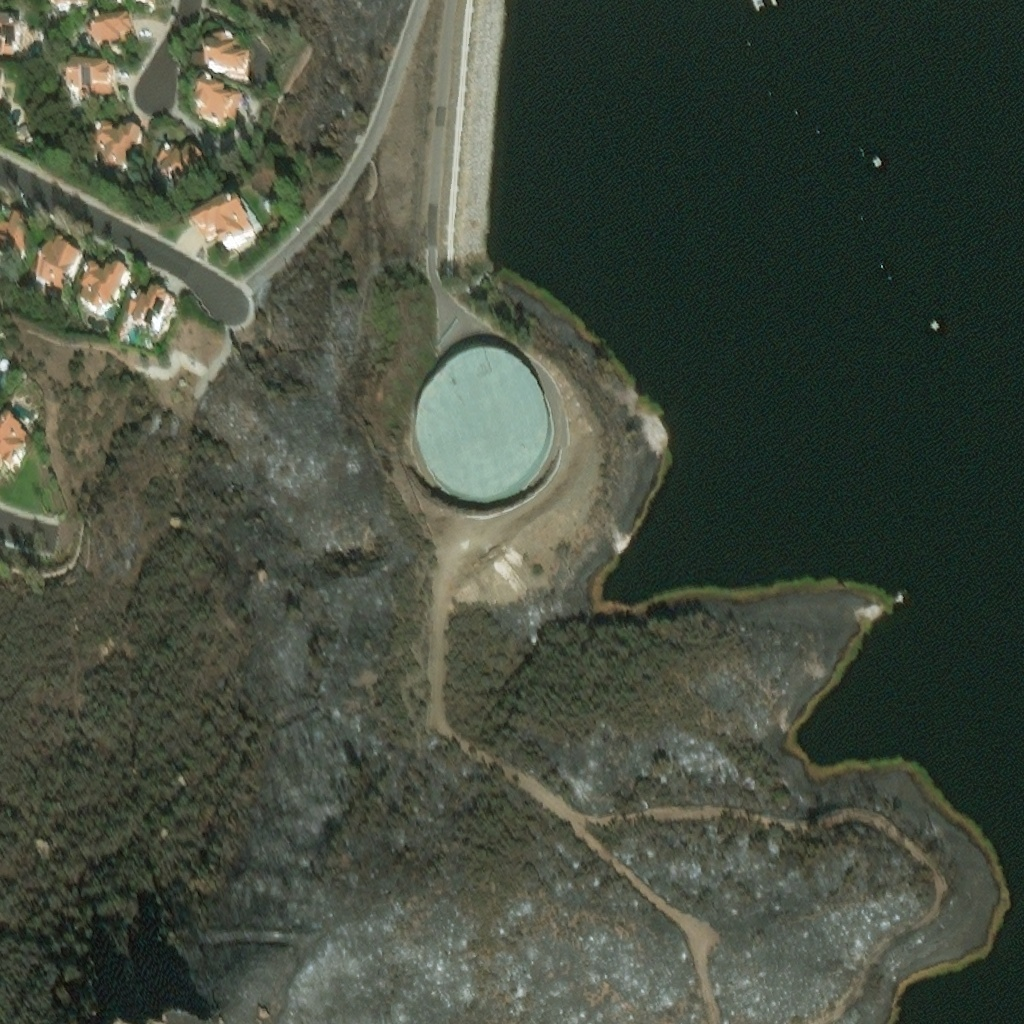0 no-damage: (413, 352, 549, 495), (193, 198, 261, 260), (147, 141, 207, 197), (32, 235, 83, 298), (85, 121, 144, 175), (76, 264, 131, 317), (189, 32, 248, 77), (191, 74, 242, 122), (127, 293, 179, 339), (0, 212, 36, 275), (67, 61, 112, 102), (0, 410, 29, 468), (90, 15, 135, 48), (45, 0, 89, 23), (0, 71, 5, 102), (263, 199, 271, 212), (134, 0, 154, 5)
